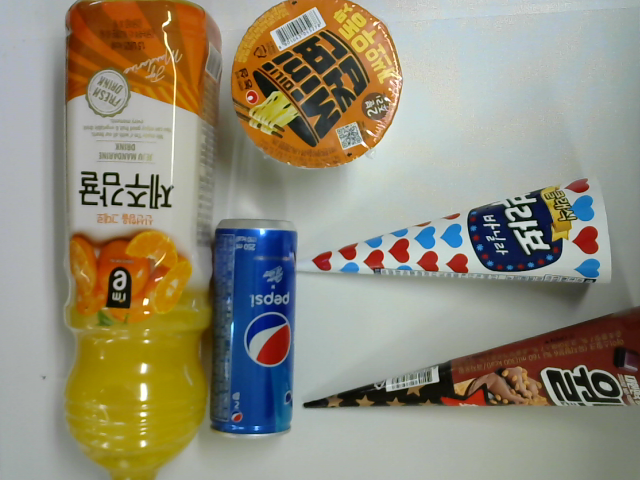Bravo_Cone_(Banila)_CVS: (297, 167, 613, 284)
Jeju_Tangerine_1.5L: (65, 1, 221, 480)
Pepsi_Cola_Can_250ml: (209, 215, 299, 441)
Udongmini: (227, 1, 404, 170)
World_Cone_Choco: (302, 305, 640, 419)
